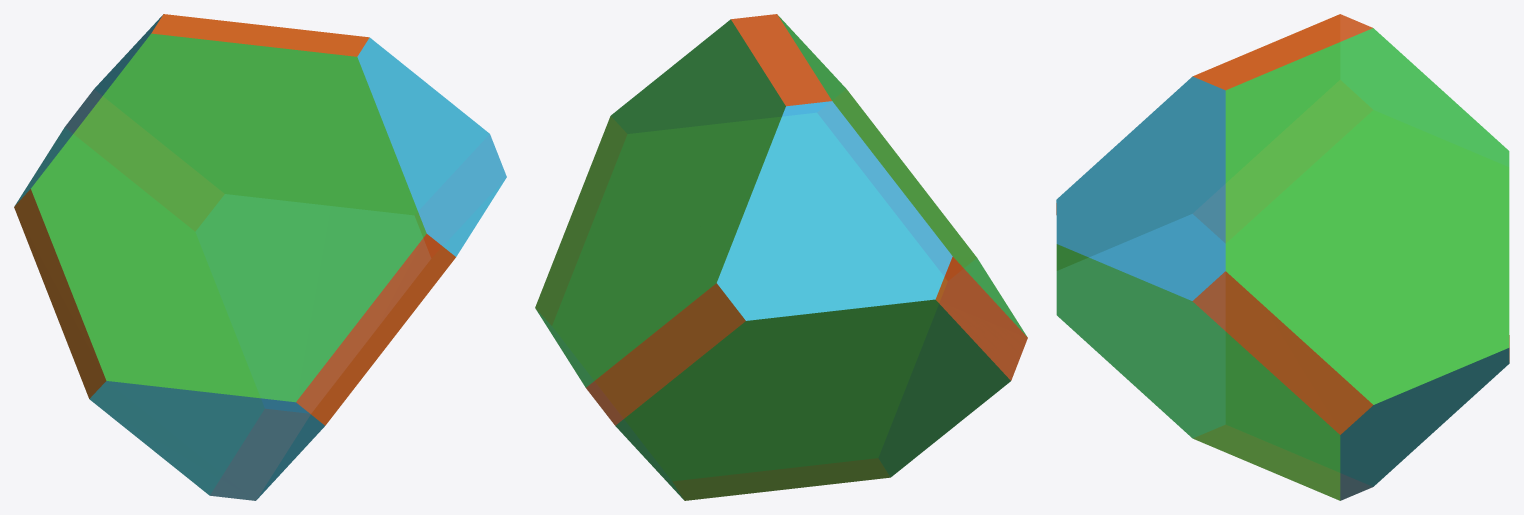
File: Mobius241Dual.obj
The picture shows the model from 3 angles, left to right: view 1: azimuth 30°, elevation 25°; view 2: azimuth 150°, elevation 25°; view 3: azimuth 270°, elevation 25°; orthographic projection. The views are drawn at different scales.
Size of the model in its own units: 1.24 by 1.24 by 1.24.
